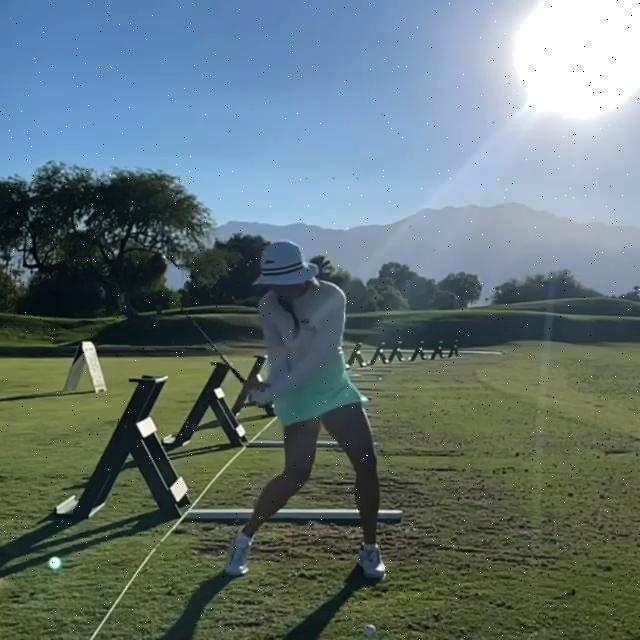ClubHead: (170, 292, 185, 305)
GolfBall: (363, 625, 376, 636)
